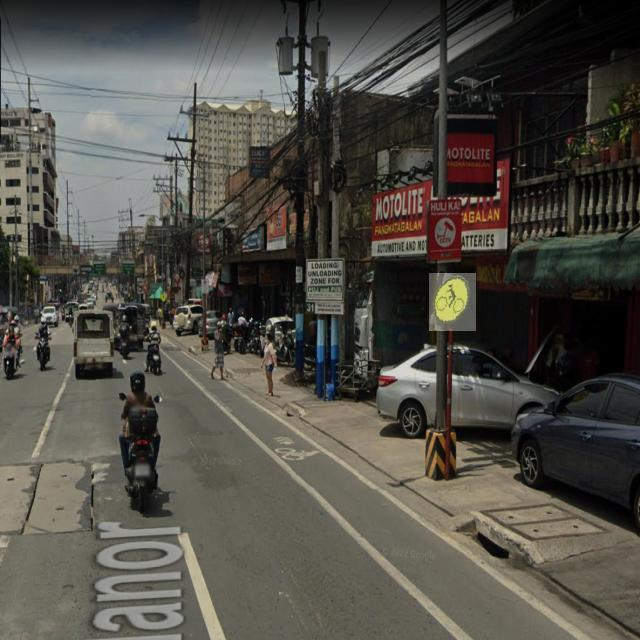bike lane: (429, 273, 476, 331)
